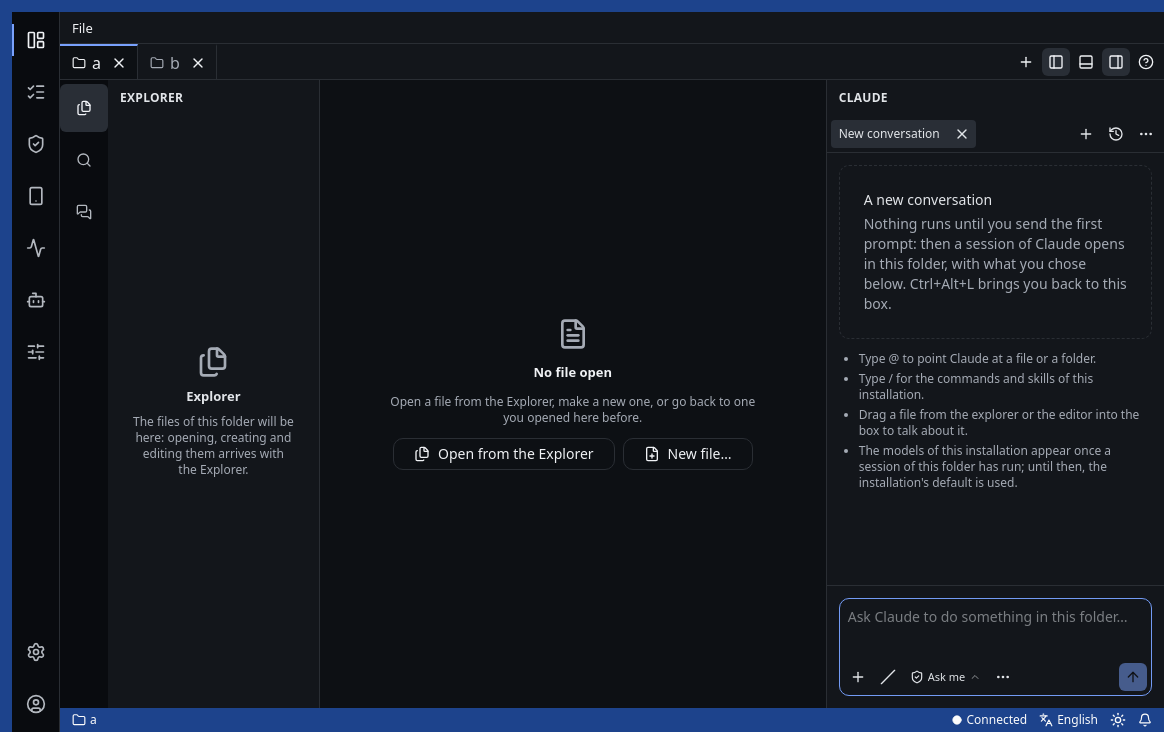
Test: the chat with Claude, in the folder tab — plan 06, S-115 › talks and shows what the session says, without leaving the tab
Type "first" into the text box named "Prompt" at (995, 631), box left=840, top=599, right=1151, bottom=663
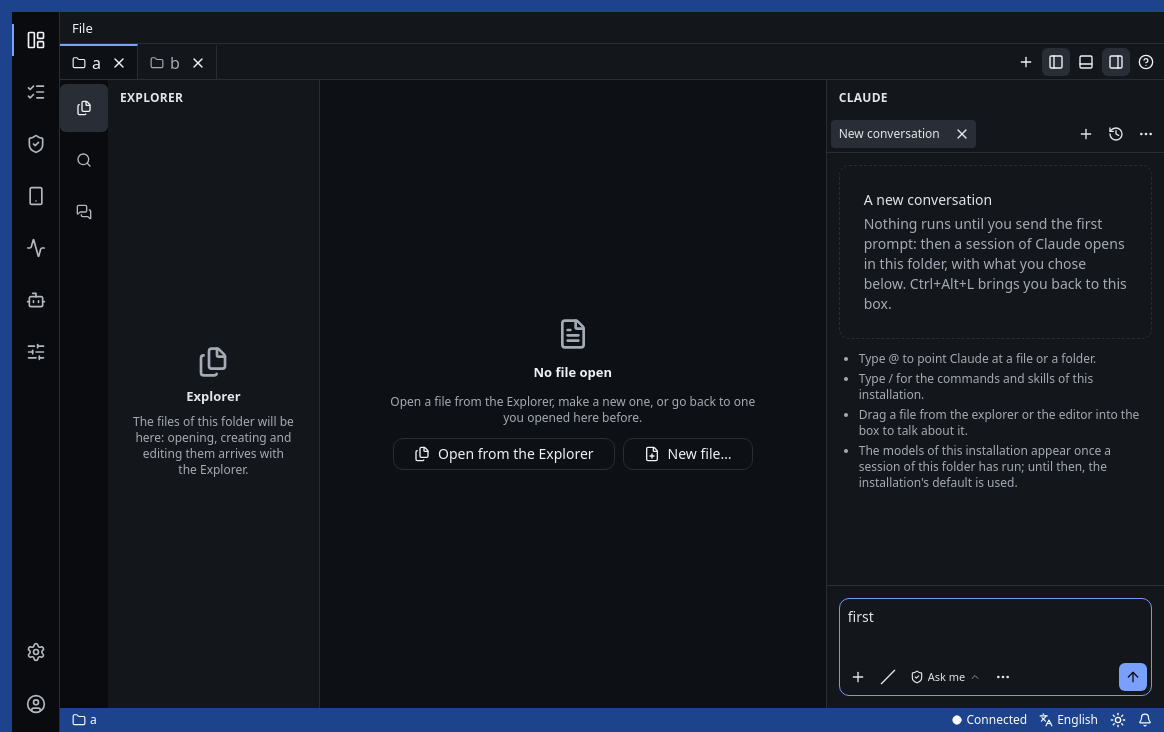
Click the button named "Send" at (1133, 677), box left=1119, top=663, right=1147, bottom=691
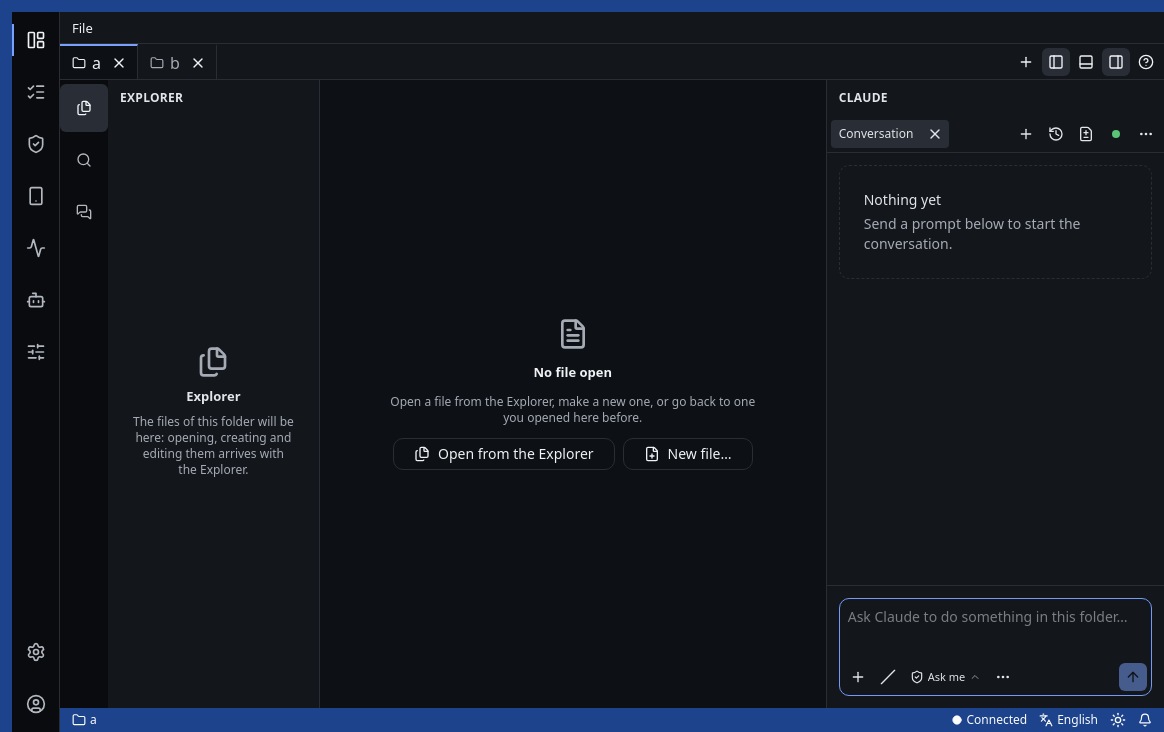
Type "run the tests" into the text box named "Prompt" at (995, 631), box left=840, top=599, right=1151, bottom=663
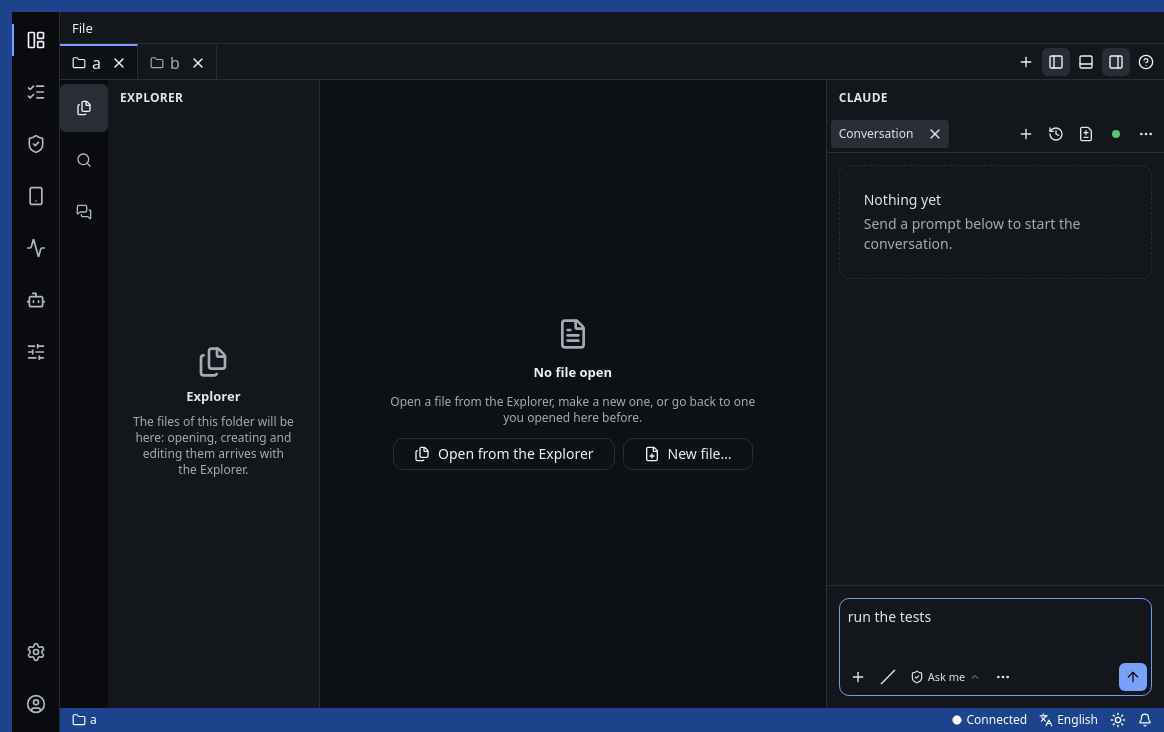
Click the button named "Send" at (1133, 677), box left=1119, top=663, right=1147, bottom=691
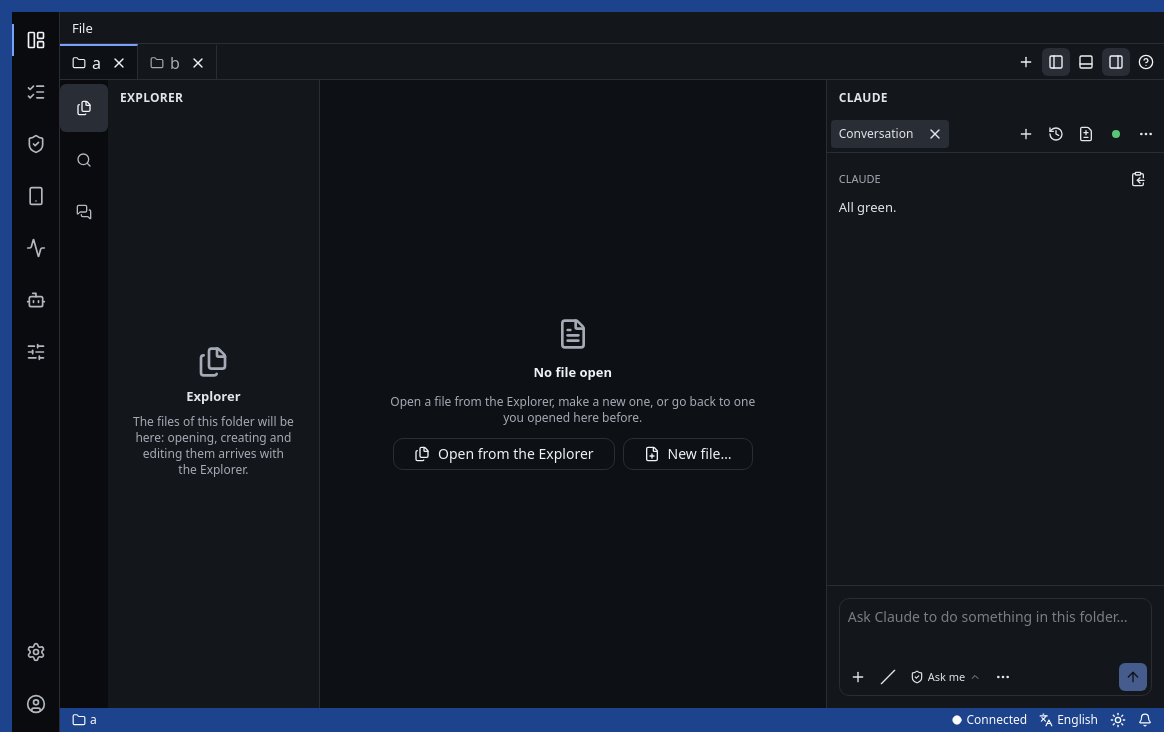
Check: the text "All green." is shown, box left=839, top=198, right=896, bottom=216
